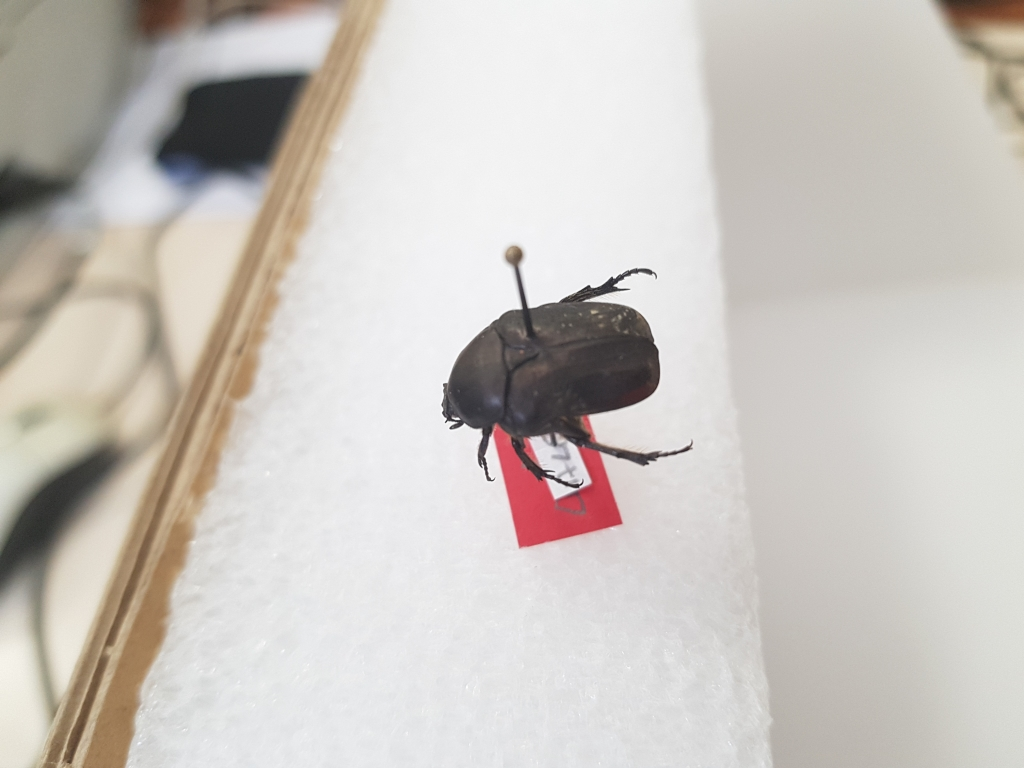Protaetia_asiatica: (439, 254, 696, 487)
